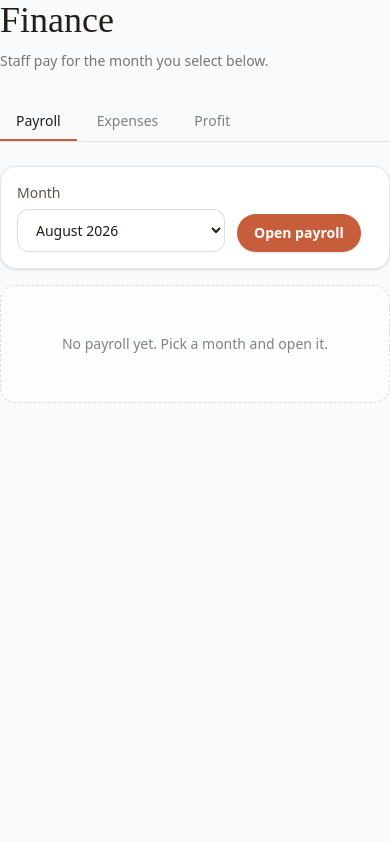
Test case: FinanceView — the phone (md:hidden) expense log › shows one card per expense, plus the total card
Click the button "Expenses" at [128, 122], box [81,103,174,141]
(page scrolled)
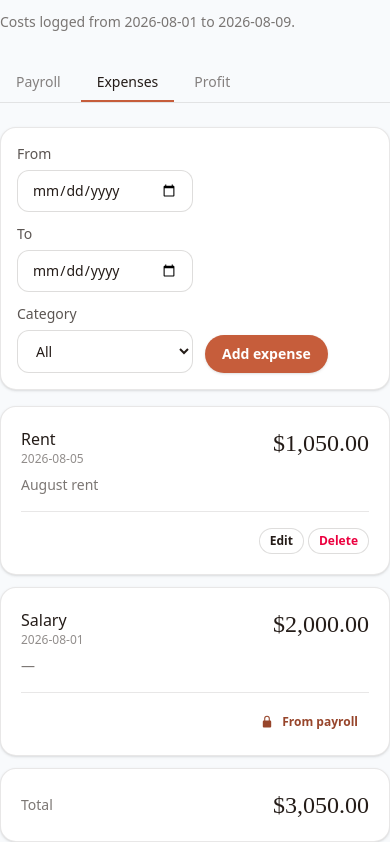
Now the element that starts with "rent" shows "salary", box [21,609,67,631]
